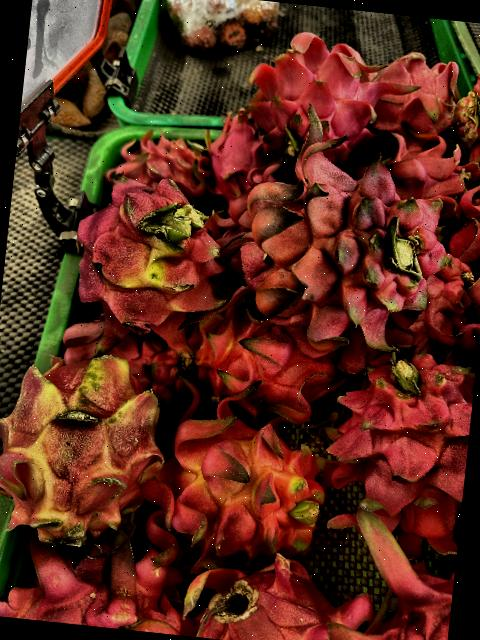buah-naga-belum-matang: (144, 370, 334, 570), (0, 343, 176, 550), (60, 174, 244, 339)
buah-naga-matang: (229, 116, 454, 352), (326, 338, 478, 553), (314, 487, 461, 640), (0, 528, 186, 634), (234, 20, 380, 154), (178, 545, 378, 640), (184, 306, 339, 420), (50, 311, 200, 407), (364, 46, 464, 146), (371, 134, 480, 221), (99, 127, 210, 205), (198, 110, 268, 202), (444, 50, 480, 161)
